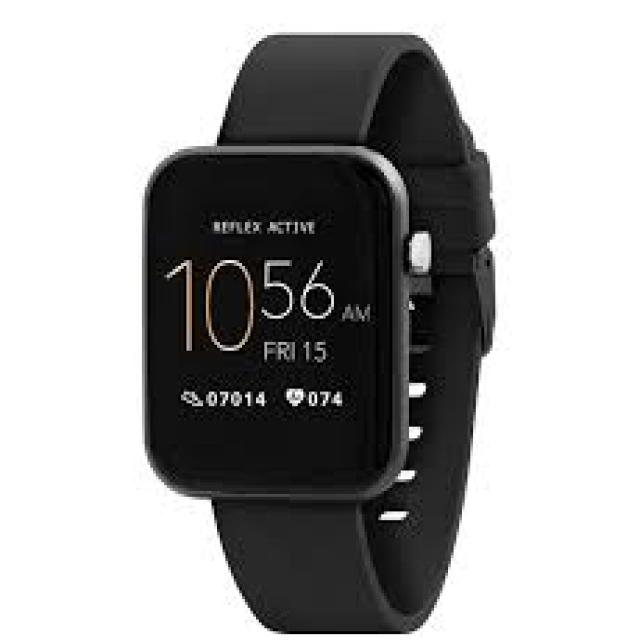objects: (145, 35, 493, 625)
